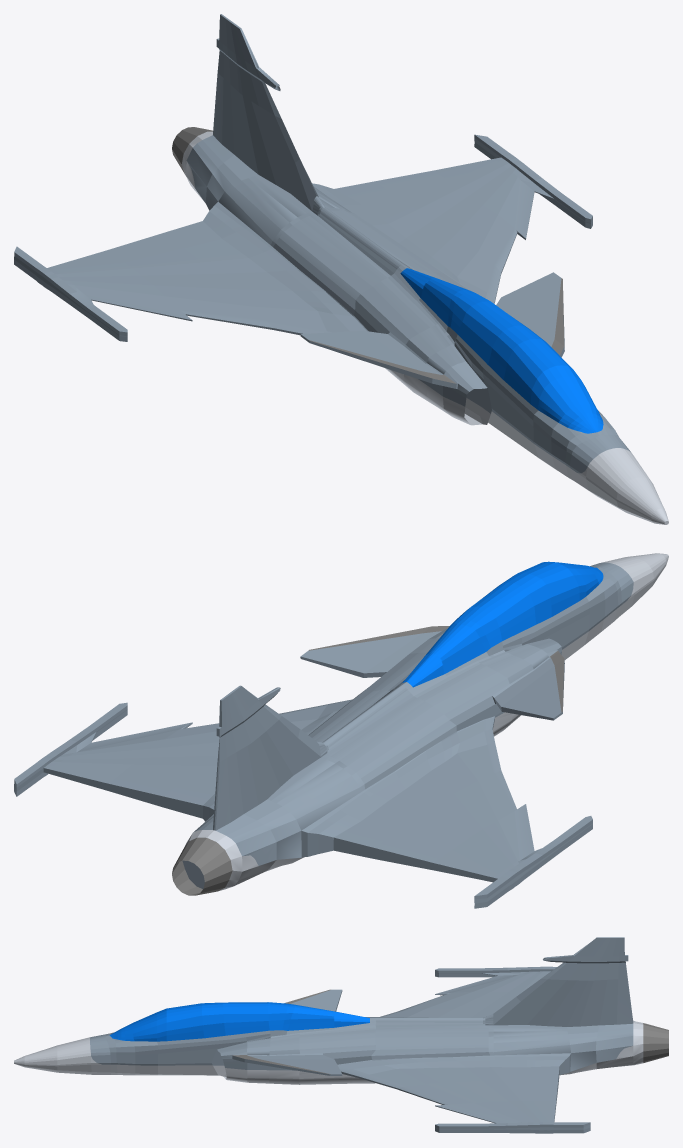
Rendered from GRIPENBoss.fbx.
3 views of the same model, one above another, from view 1: azimuth 30°, elevation 25°; view 2: azimuth 150°, elevation 25°; view 3: azimuth 270°, elevation 25° (orthographic). The views are drawn at different scales.
Visible parts, largest first — view 1: CANOPY; view 2: CANOPY; view 3: CANOPY.
Boxes of the visible parts, x1,y1,x2,y2 form: CANOPY: (14, 14, 668, 524); CANOPY: (14, 553, 668, 908); CANOPY: (14, 937, 668, 1133).
Size of the model in its own units: 270 by 107 by 473.
